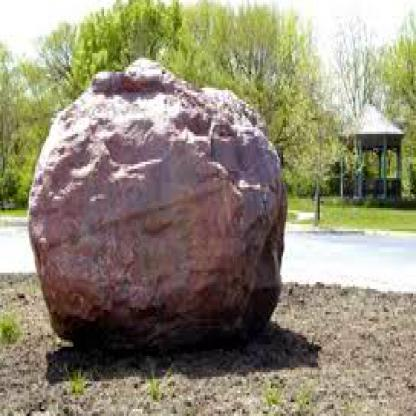Metamorphic_Quartize: (30, 53, 288, 351)
